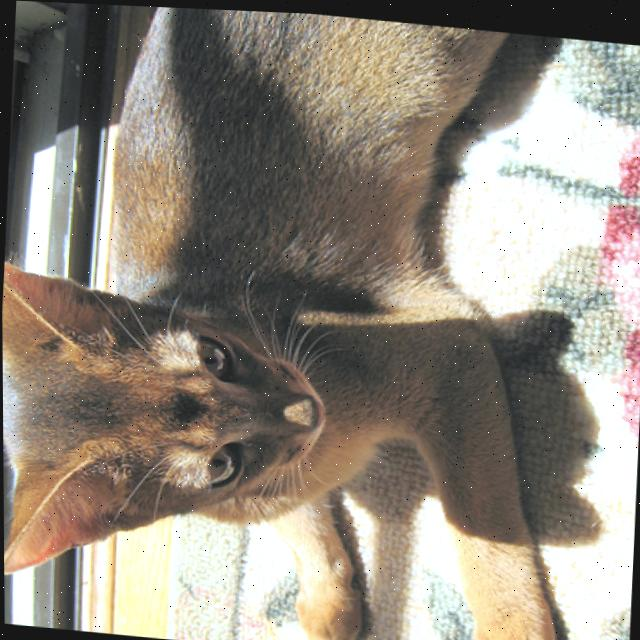Abyssinian: (0, 0, 594, 640)
